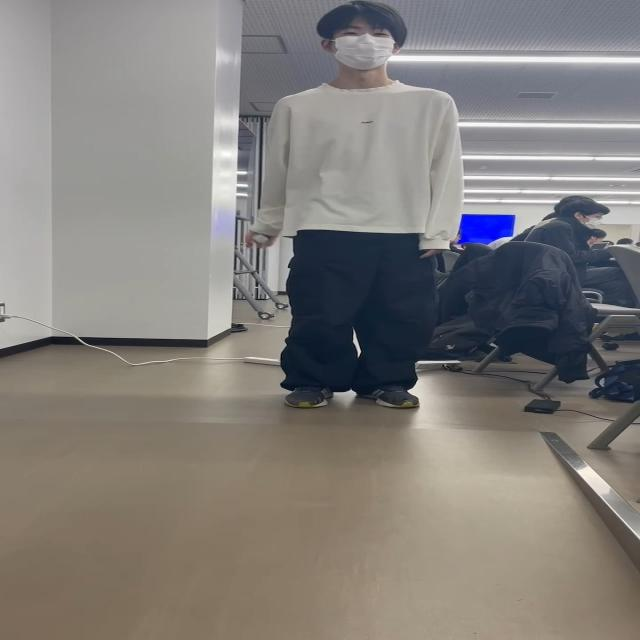paper: (250, 233, 271, 246)
